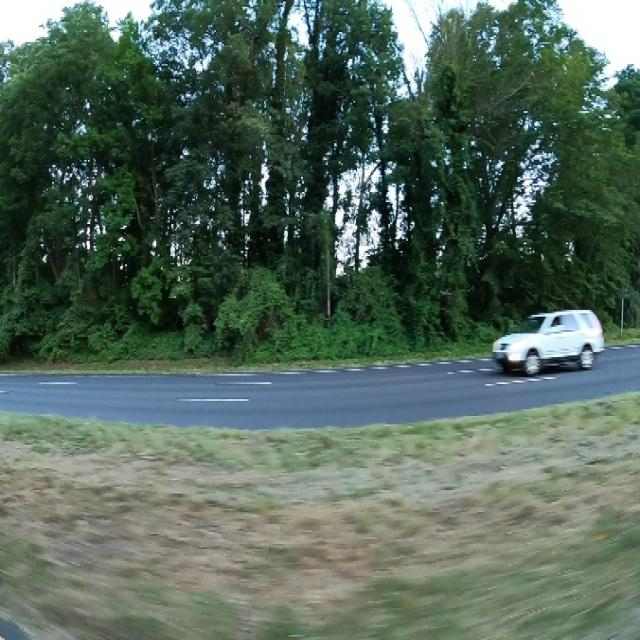cars: (488, 306, 606, 376)
